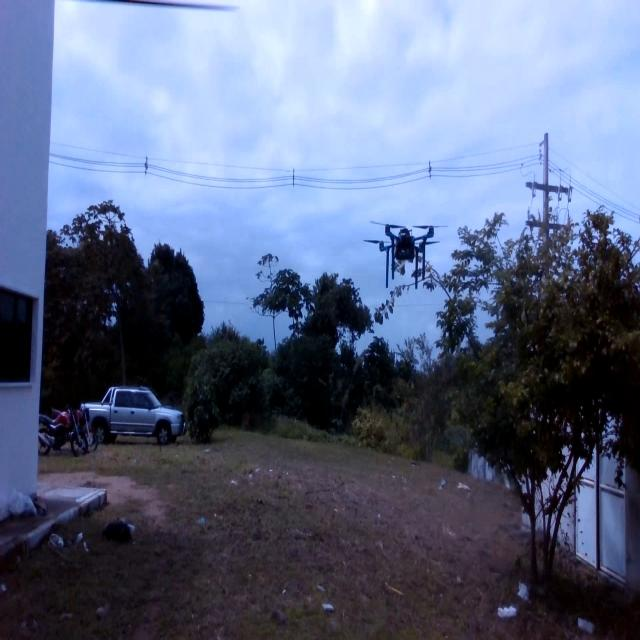-uav-: (358, 201, 444, 298)
